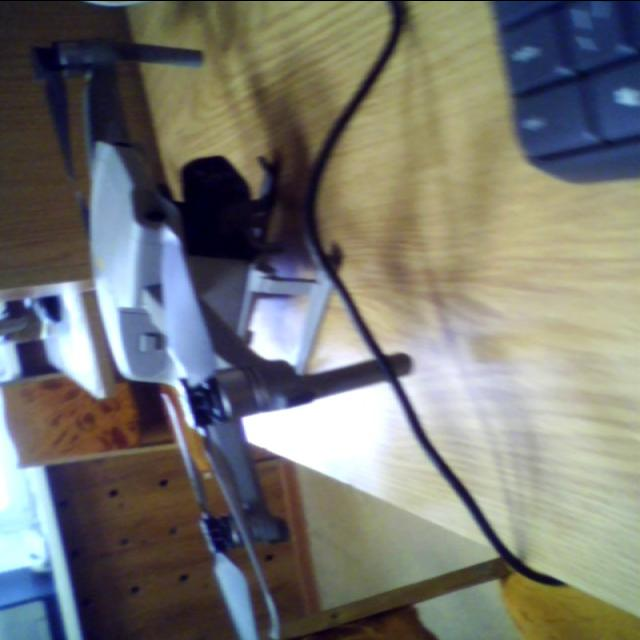drone: (25, 0, 413, 640)
